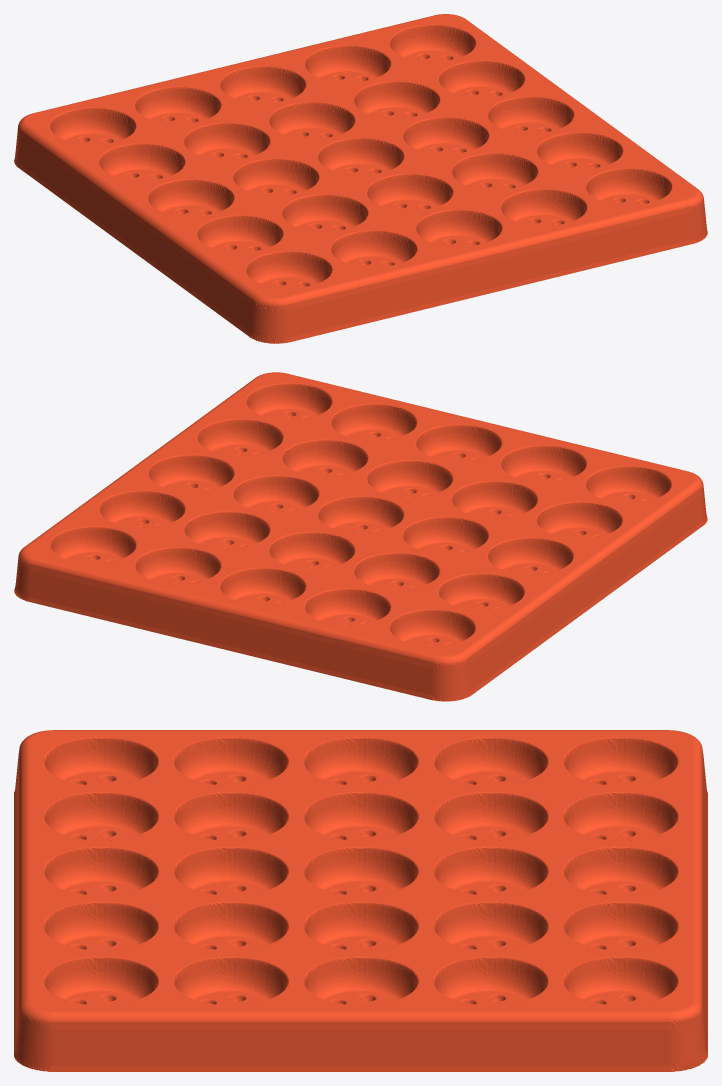
The model's file is mold.glb.
3 renders of one model, top to bottom at view 1: azimuth 30°, elevation 25°; view 2: azimuth 150°, elevation 25°; view 3: azimuth 270°, elevation 25°, orthographic. The views are drawn at different scales.
Parts seen in each view (by area): view 1: geometry_0; view 2: geometry_0; view 3: geometry_0.
Part boxes in pixels (x1,y1,x2,y2): geometry_0: [14, 14, 707, 343]; geometry_0: [14, 372, 707, 701]; geometry_0: [14, 730, 707, 1071].
Bounding box in the file's own units: 0.1584 × 0.0136 × 0.1584.
